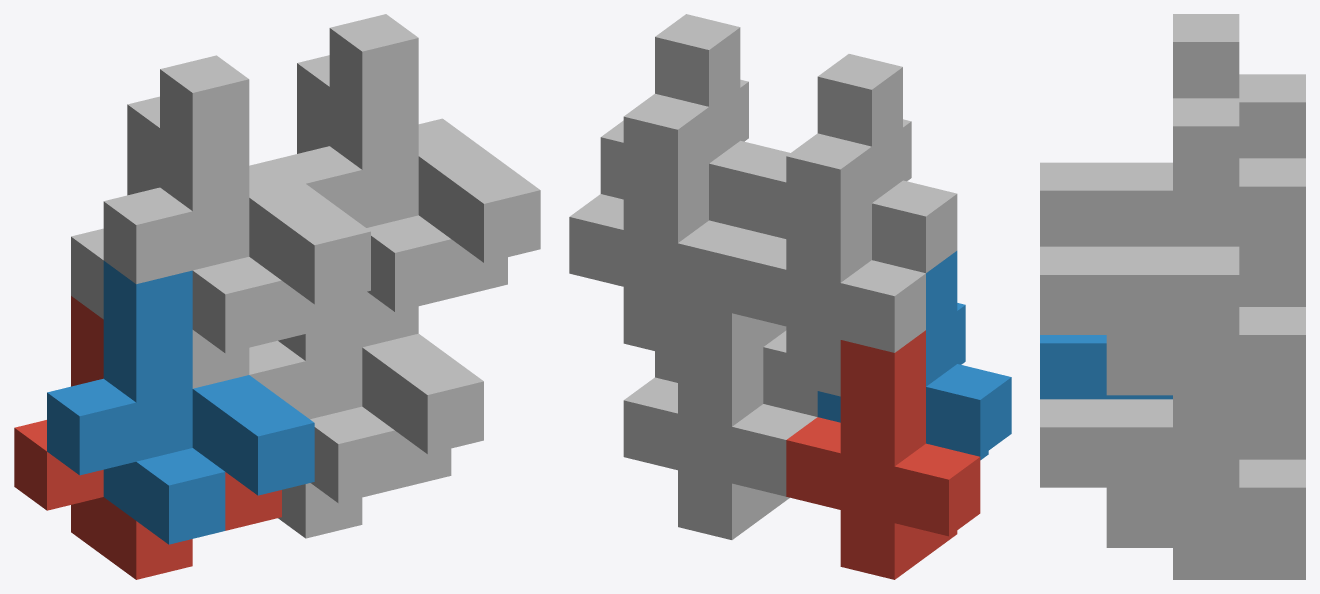
File: tiling.obj
The picture shows the model from 3 angles, left to right: view 1: azimuth 30°, elevation 25°; view 2: azimuth 150°, elevation 25°; view 3: azimuth 270°, elevation 25°; orthographic projection. The views are drawn at different scales.
Visible parts, largest first — view 1: copy_1_domain_4, copy_1_domain_2, copy_1_domain_8, copy_1_domain_6, copy_1_domain_1, copy_1_domain_3, copy_1_domain_7, copy_1_domain_5; view 2: copy_1_domain_1, copy_1_domain_3, copy_1_domain_7, copy_1_domain_5, copy_1_domain_4, copy_1_domain_8, copy_1_domain_2, copy_1_domain_6; view 3: copy_1_domain_7, copy_1_domain_8, copy_1_domain_5, copy_1_domain_4, copy_1_domain_6, copy_1_domain_3, copy_1_domain_2.
Part boxes in pixels (x1,y1,x2,y2): copy_1_domain_4: (103, 55, 370, 353); copy_1_domain_2: (47, 261, 314, 544); copy_1_domain_8: (273, 14, 540, 311); copy_1_domain_6: (249, 293, 483, 503); copy_1_domain_1: (14, 296, 281, 579); copy_1_domain_3: (71, 96, 338, 388); copy_1_domain_7: (297, 55, 507, 347); copy_1_domain_5: (278, 431, 451, 538); copy_1_domain_1: (786, 330, 980, 579); copy_1_domain_3: (732, 133, 925, 396); copy_1_domain_7: (569, 93, 762, 356); copy_1_domain_5: (623, 300, 817, 539); copy_1_domain_4: (763, 54, 957, 273); copy_1_domain_8: (600, 14, 790, 233); copy_1_domain_2: (817, 251, 1011, 460); copy_1_domain_6: (655, 321, 817, 416); copy_1_domain_7: (1106, 158, 1305, 427); copy_1_domain_8: (1040, 98, 1239, 334); copy_1_domain_5: (1106, 427, 1305, 579); copy_1_domain_4: (1040, 14, 1239, 246); copy_1_domain_6: (1040, 399, 1239, 487); copy_1_domain_3: (1239, 74, 1305, 158); copy_1_domain_2: (1040, 335, 1172, 399).
Size of the model in its own units: 7 by 8 by 4.
